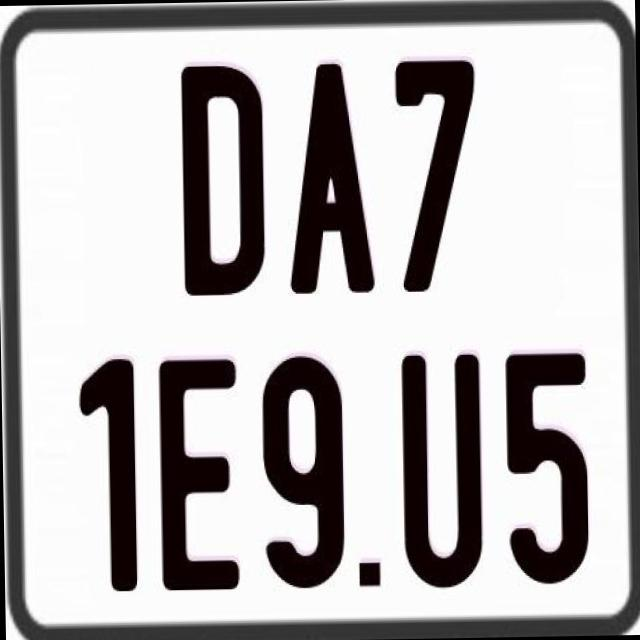1: (78, 356, 138, 600)
5: (503, 348, 590, 578)
7: (394, 58, 485, 294)
9: (258, 356, 346, 590)
A: (285, 63, 374, 303)
D: (178, 60, 266, 292)
E: (154, 355, 242, 587)
U: (397, 354, 479, 592)
